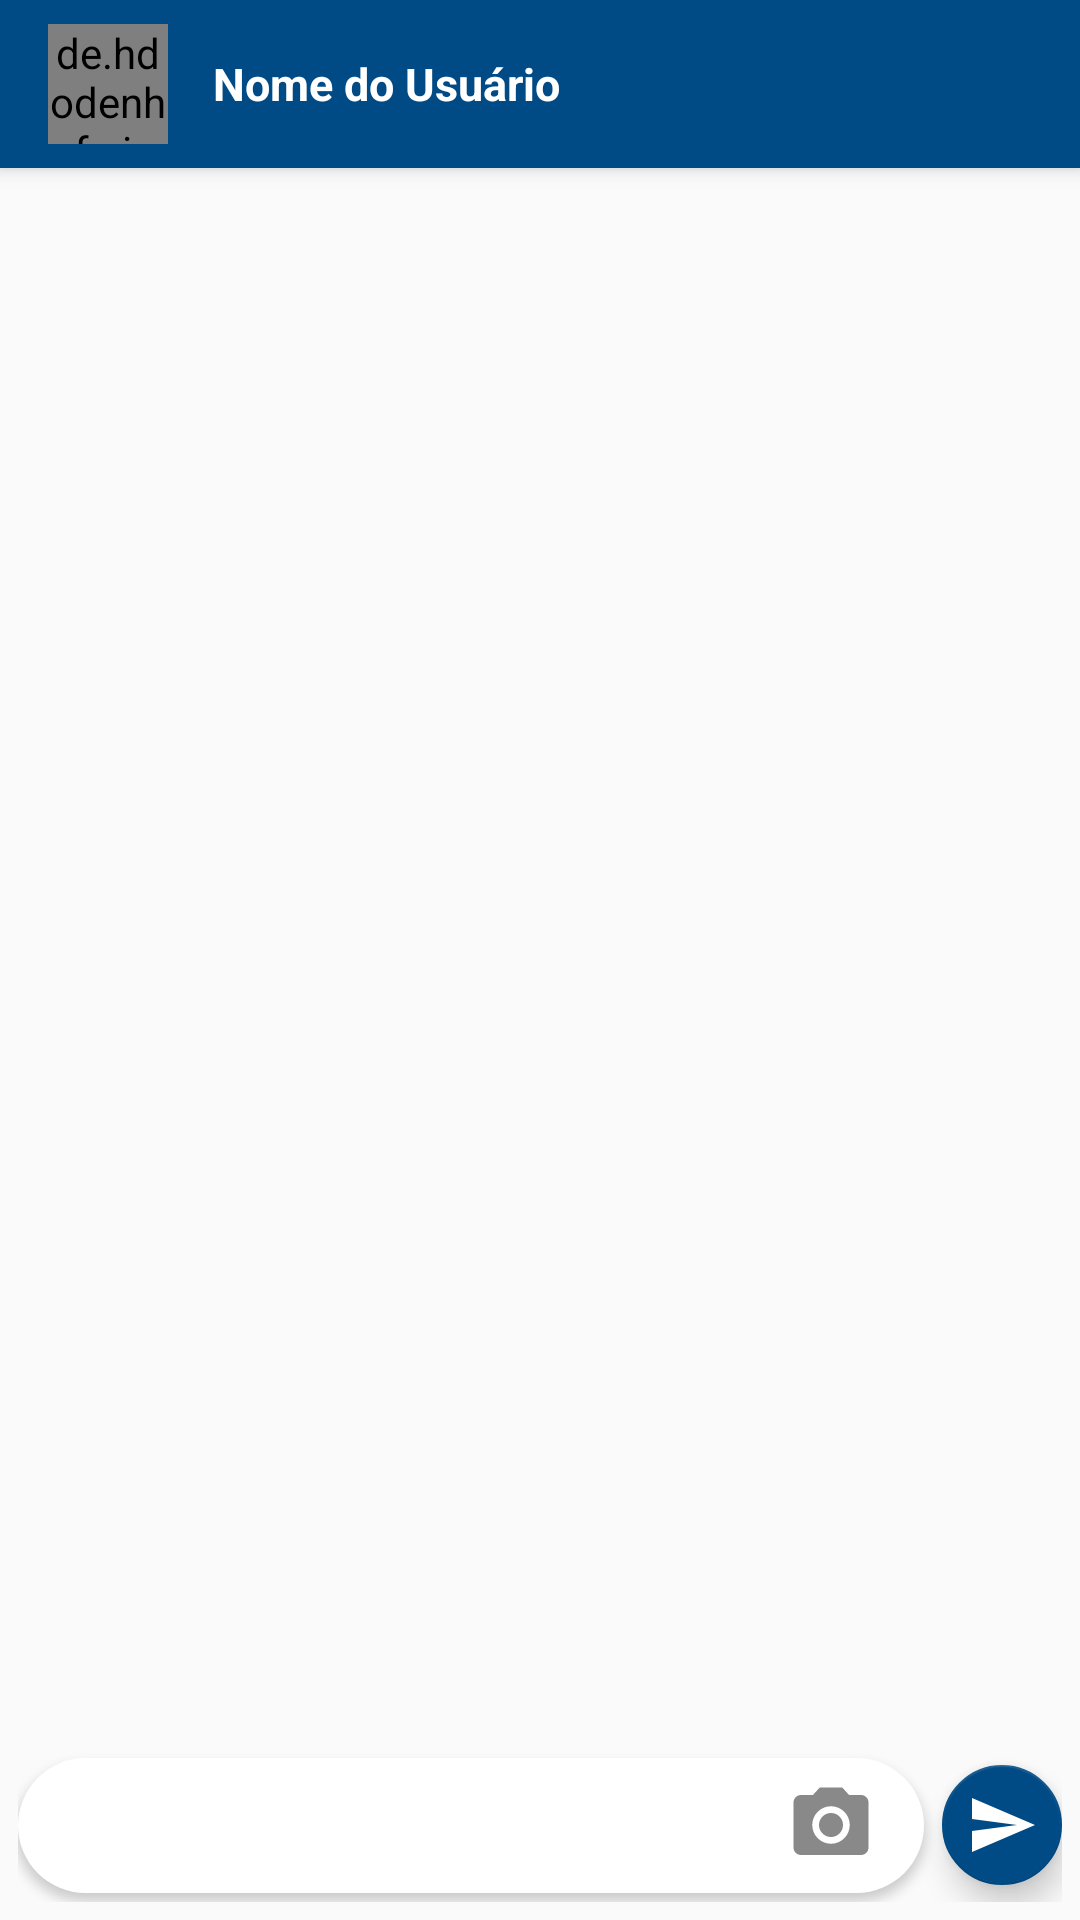

Icons on this 1080px x 1920px Android screen, each with its box as (x1,y1,x2,y2):
photo camera cinza: (793,1787,869,1855)
send branco: (942,1765,1062,1885)
